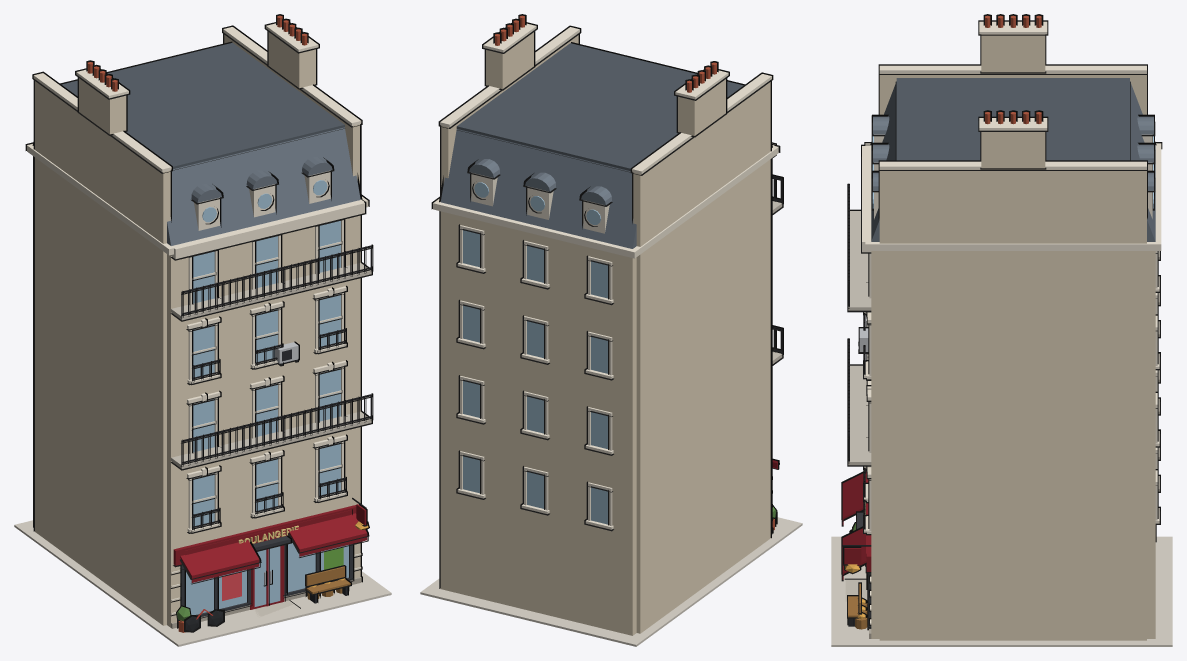
The model's file is Dukkan_cadde_firin.fbx.
The picture shows the model from 3 angles, left to right: view 1: azimuth 30°, elevation 25°; view 2: azimuth 150°, elevation 25°; view 3: azimuth 270°, elevation 25°; orthographic projection. The views are drawn at different scales.
Parts seen in each view (by area): view 1: Dukkan_cadde_firin; view 2: Dukkan_cadde_firin; view 3: Dukkan_cadde_firin.
Part boxes in pixels (x1,y1,x2,y2): Dukkan_cadde_firin: (14,14,391,646); Dukkan_cadde_firin: (420,14,802,646); Dukkan_cadde_firin: (831,14,1172,646).
Size of the model in its own units: 9 by 20.59 by 12.
